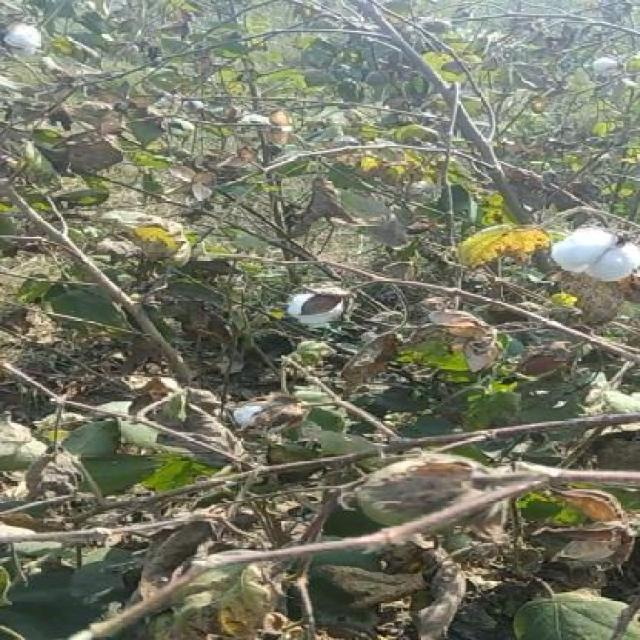cotton_ready: (498, 225, 630, 290), (274, 284, 371, 336)
